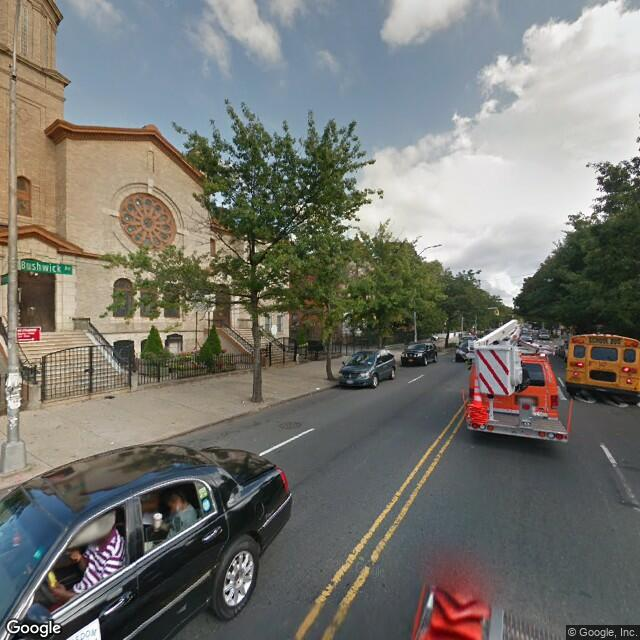litter: (307, 382, 339, 397)
